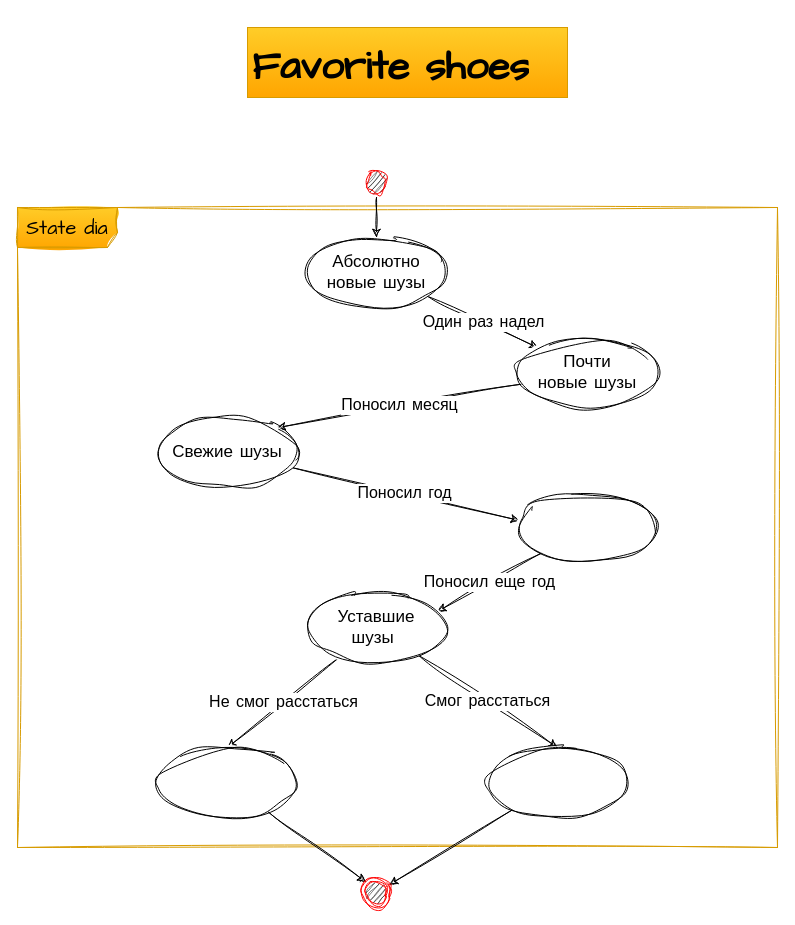
Image size: 795x925. Some labels were removed from this diagram. The centre of each missing label's shape, as x and y in pixels:
Выкинул шузы: point (557, 782)
Отвез на вечное хранение в деревню: point (227, 782)
Тертые шузы: point (587, 527)
